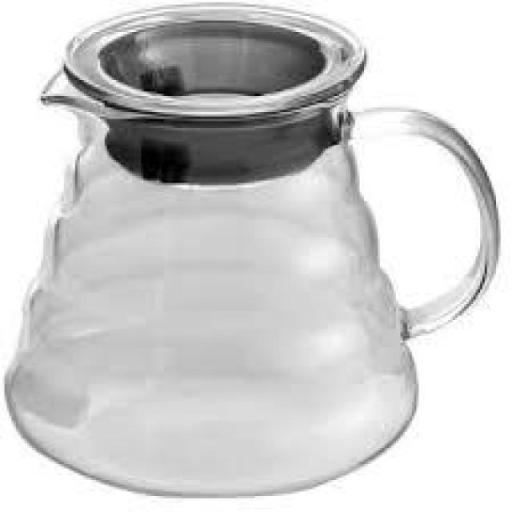glass: (3, 0, 506, 494)
